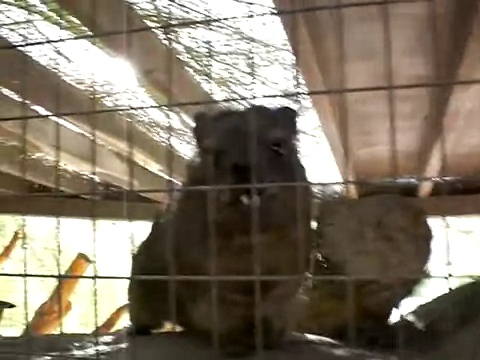Rock Hyrex: (125, 105, 313, 348)
